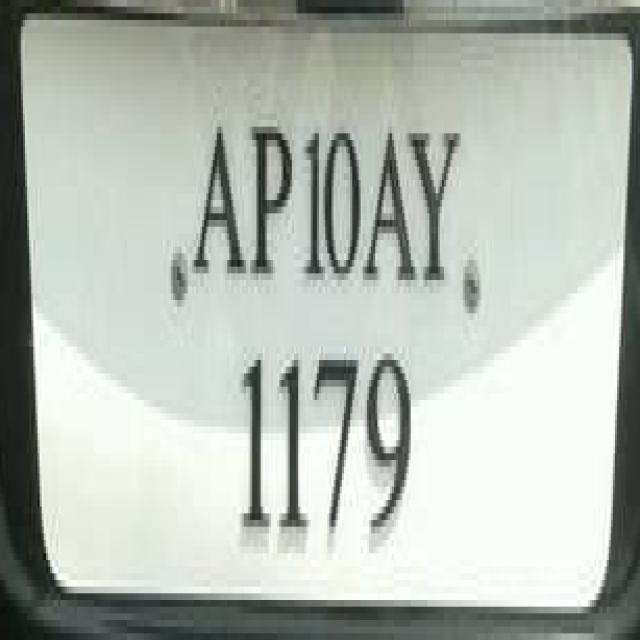license_plate: (27, 40, 636, 593)
